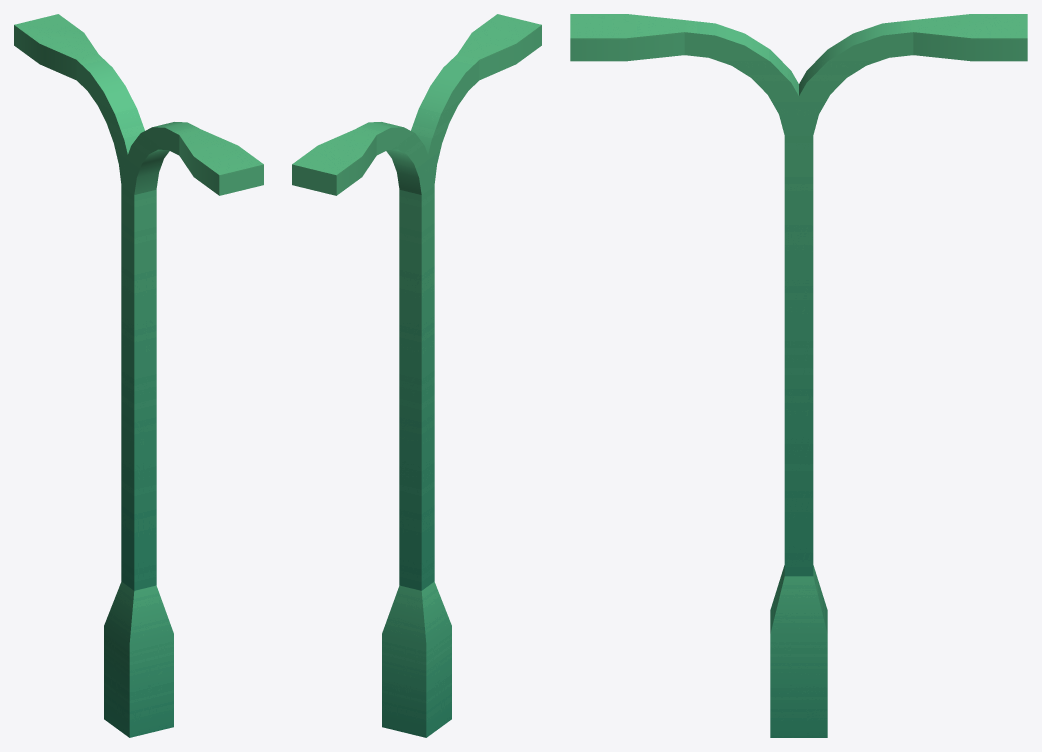
File: light_curved_double.glb
3 renders of one model, left to right at view 1: azimuth 30°, elevation 25°; view 2: azimuth 150°, elevation 25°; view 3: azimuth 270°, elevation 25°, orthographic. The views are drawn at different scales.
Visible parts, largest first — view 1: light-curved-double; view 2: light-curved-double; view 3: light-curved-double.
Boxes of the visible parts, x1,y1,x2,y2 form: light-curved-double: (14, 14, 263, 737); light-curved-double: (292, 14, 541, 737); light-curved-double: (570, 14, 1027, 737).
Bounding box in the file's own units: 0.05 × 0.675 × 0.4.
1 material, 1 textured.
